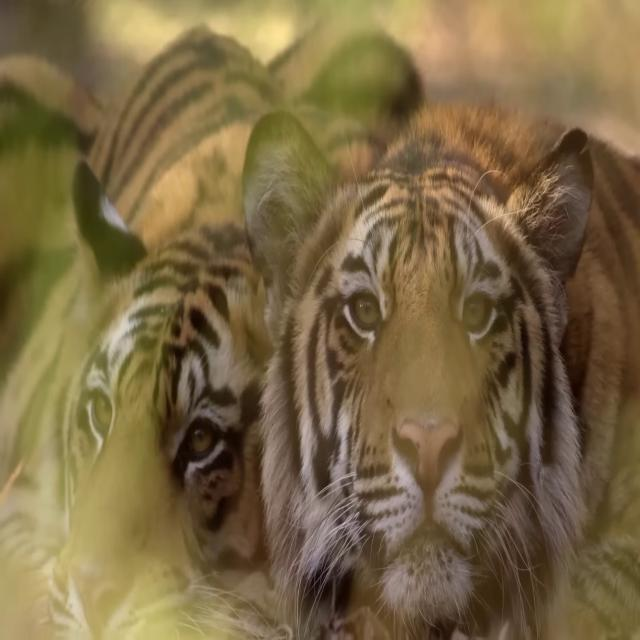tiger: (241, 105, 640, 640), (55, 164, 263, 640)
